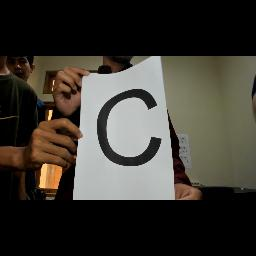c: (94, 86, 162, 168)
